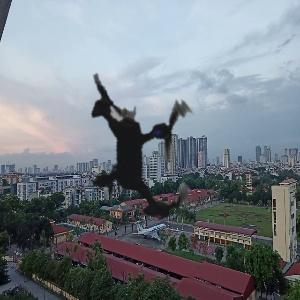drone: (23, 33, 260, 270)
